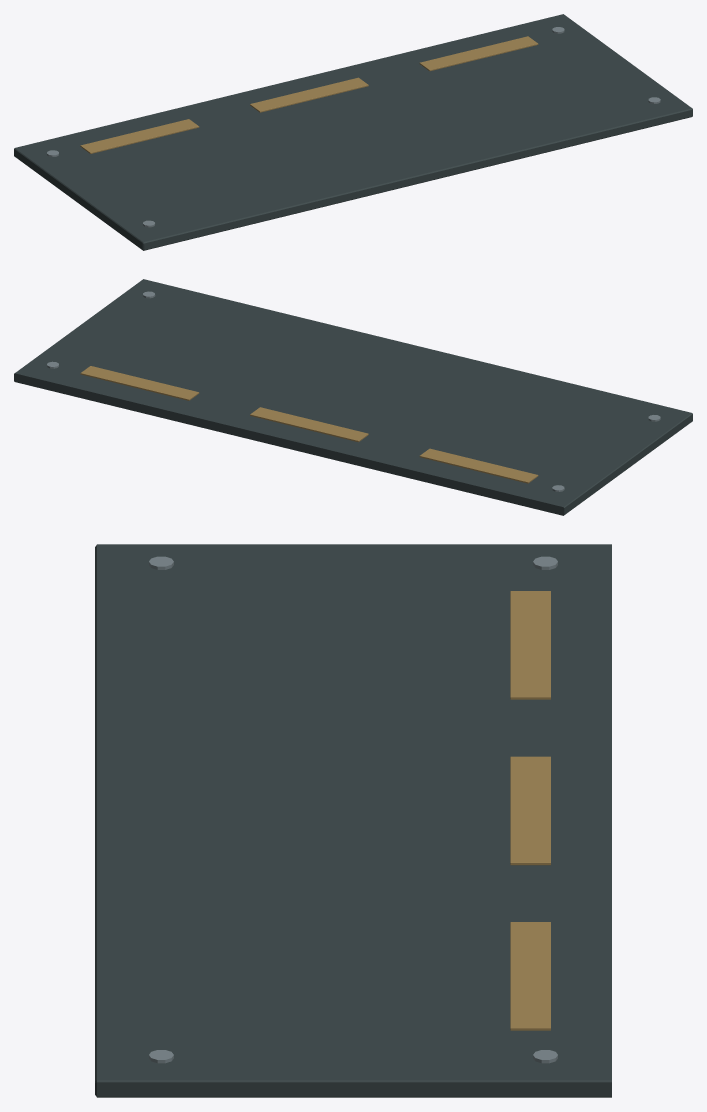
The model's file is F-09_sill_plate.glb.
3 views of the same model, one above another, from view 1: azimuth 30°, elevation 25°; view 2: azimuth 150°, elevation 25°; view 3: azimuth 270°, elevation 25° (orthographic). The views are drawn at different scales.
Visible parts, largest first — view 1: F-09_sill_plate; view 2: F-09_sill_plate; view 3: F-09_sill_plate.
Boxes of the visible parts, x1,y1,x2,y2 form: F-09_sill_plate: (14, 14, 692, 250); F-09_sill_plate: (14, 279, 692, 515); F-09_sill_plate: (95, 544, 611, 1097).
Size of the model in its own units: 1.72 by 0.032 by 0.7.
